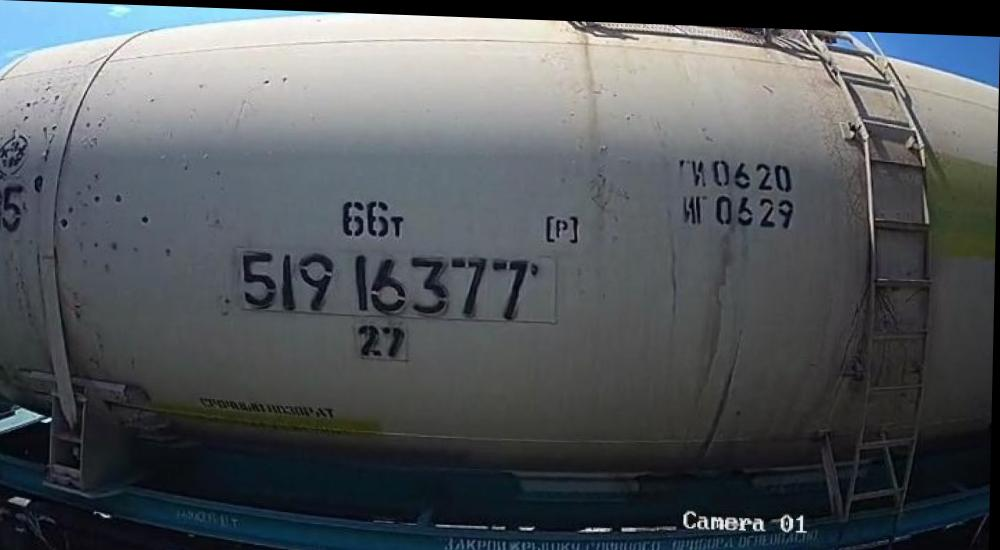Wagon-number: (236, 243, 533, 321)
